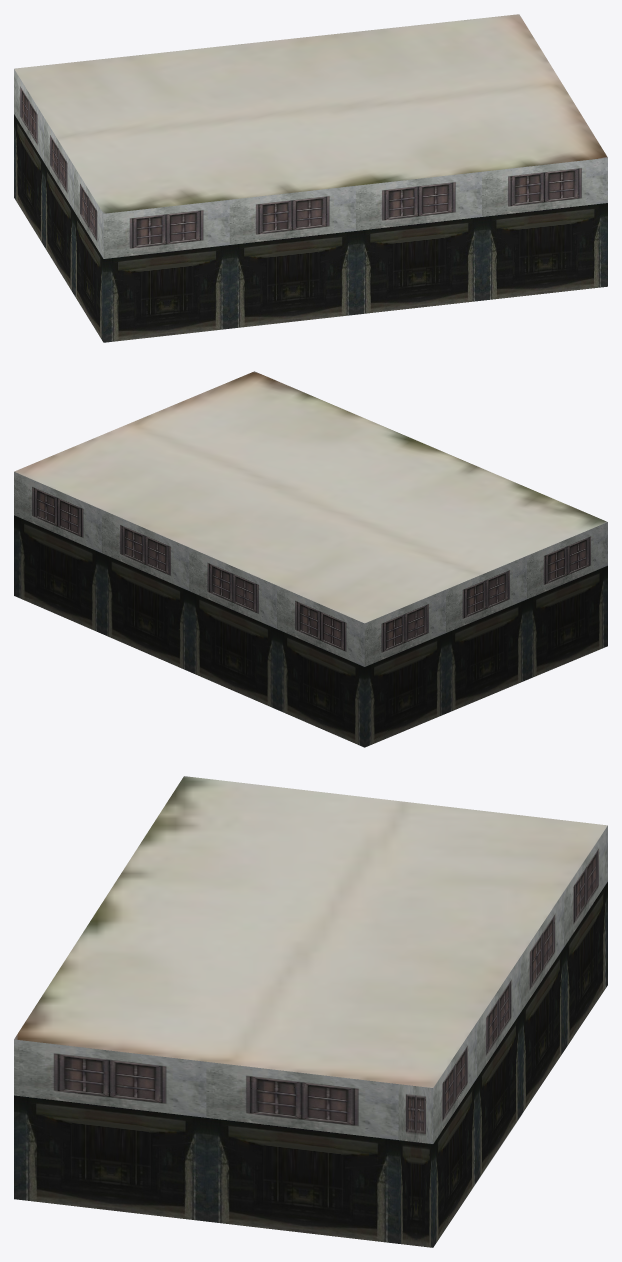
Rendered from T_1T4U74NUWQ.dae.
3 renders of one model, top to bottom at view 1: azimuth 30°, elevation 25°; view 2: azimuth 150°, elevation 25°; view 3: azimuth 270°, elevation 25°, orthographic. The views are drawn at different scales.
Visible parts, largest first — view 1: SketchUp (×5); view 2: SketchUp (×5); view 3: SketchUp (×7).
Part boxes in pixels (x1=…): SketchUp (×5): x1=14, y1=14, x2=607, y2=342; SketchUp (×5): x1=14, y1=371, x2=607, y2=747; SketchUp (×7): x1=14, y1=776, x2=607, y2=1247.
Size of the model in its own units: 21.28 by 17.12 by 5.08.
Materials: 3 (3 with a texture image).
